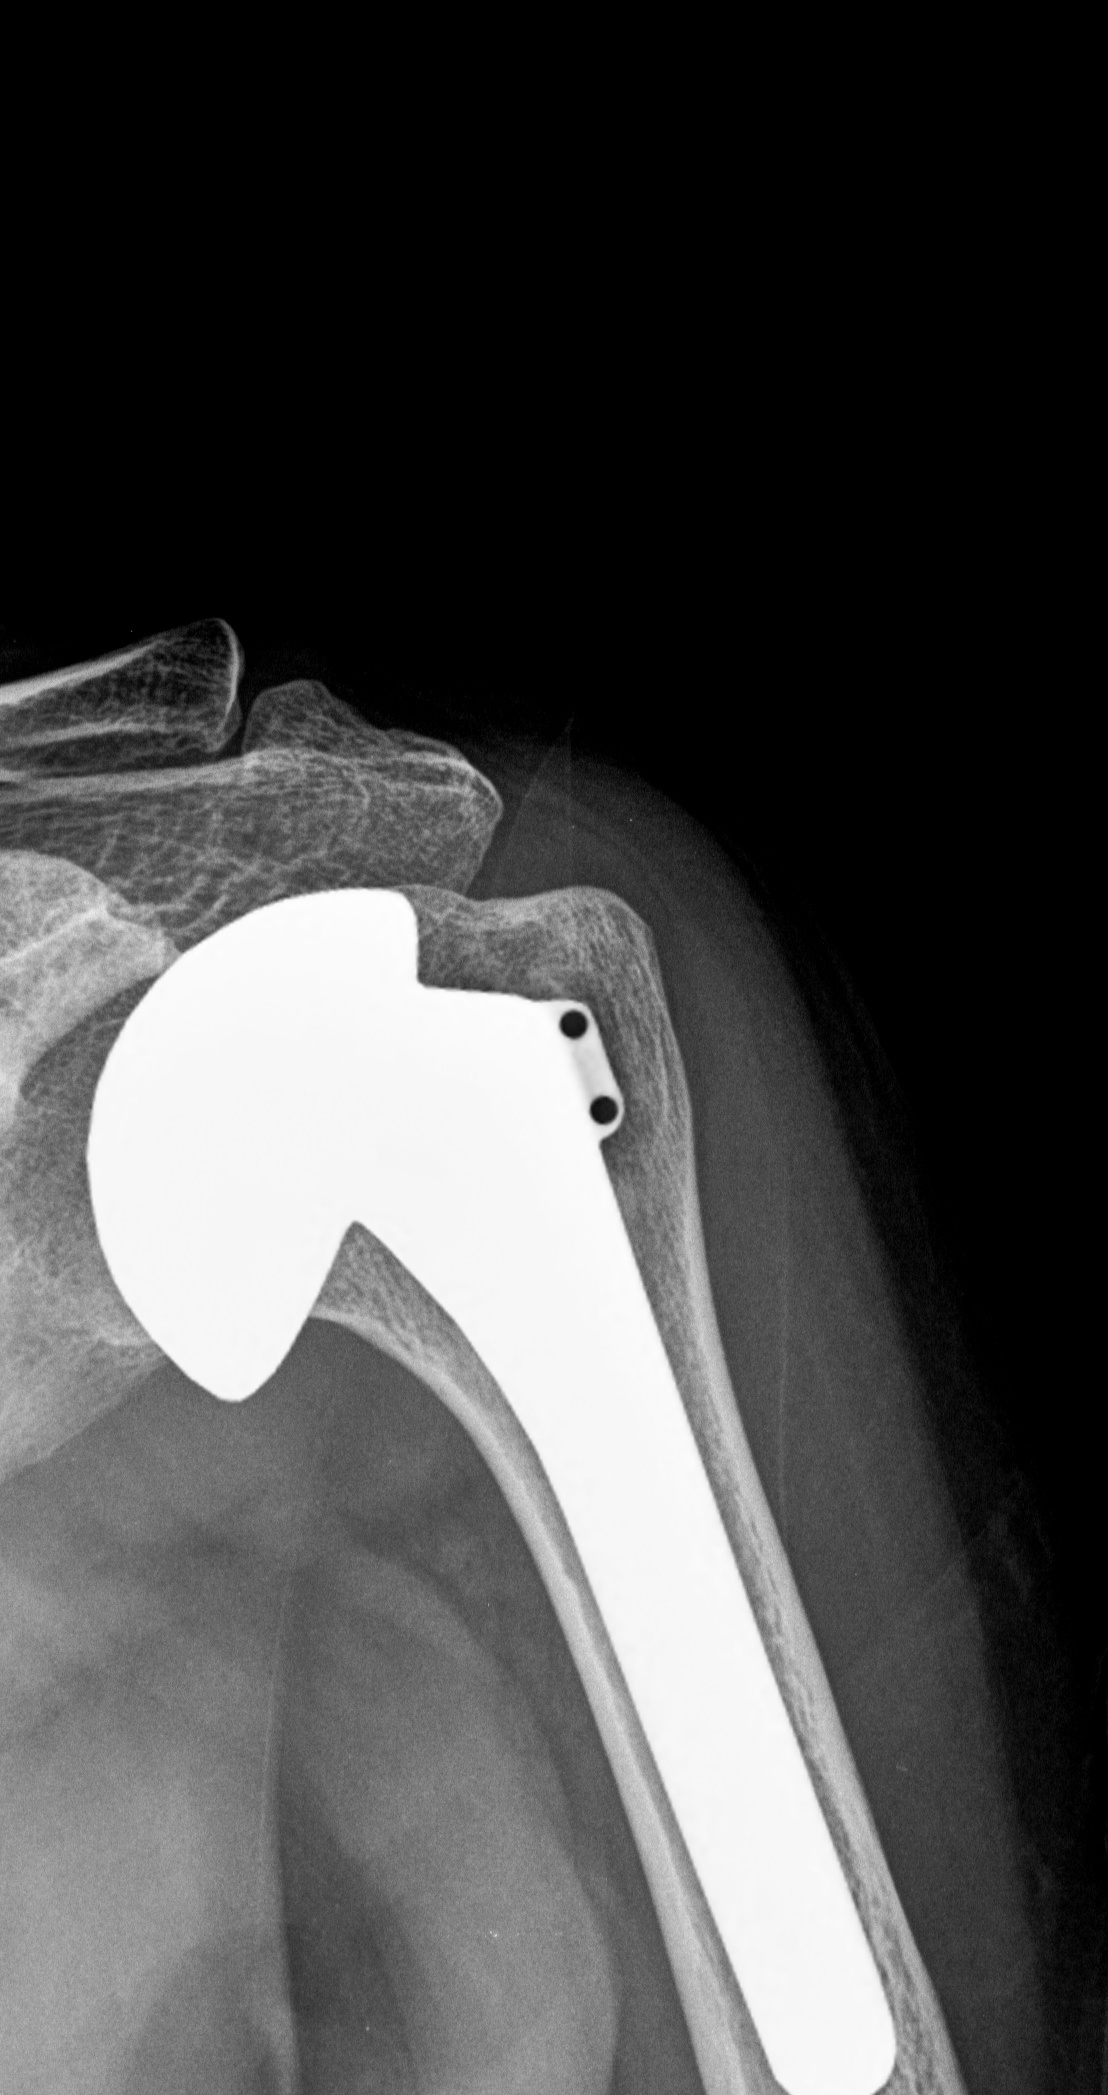Shoulder - AequalisPressfit - Tornier: (65, 860, 656, 1423)
